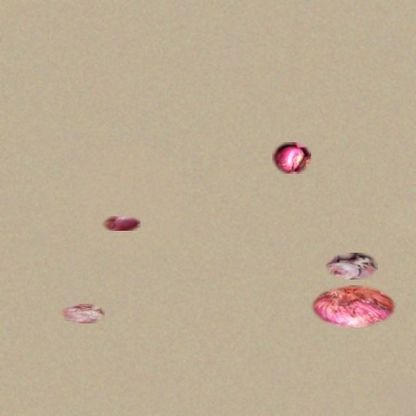healthy: (272, 142, 311, 174), (102, 216, 141, 231)
rotten: (310, 285, 396, 327), (62, 304, 105, 323)
sprouted: (326, 253, 378, 279)
